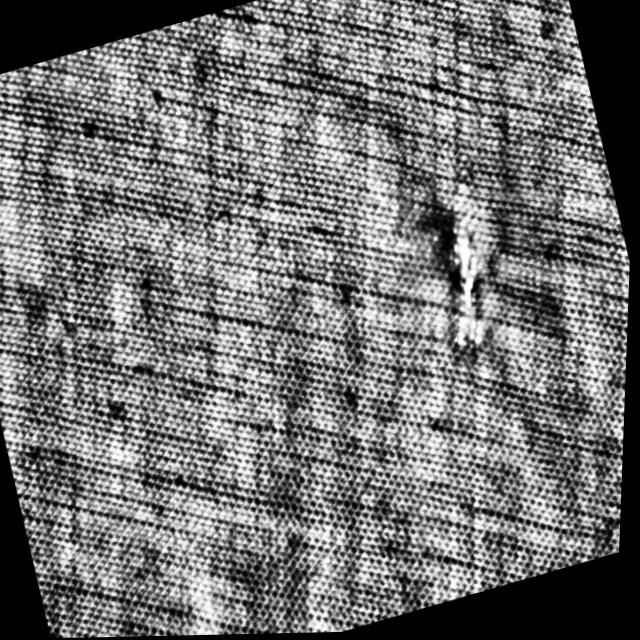Hole: (401, 167, 536, 368)
